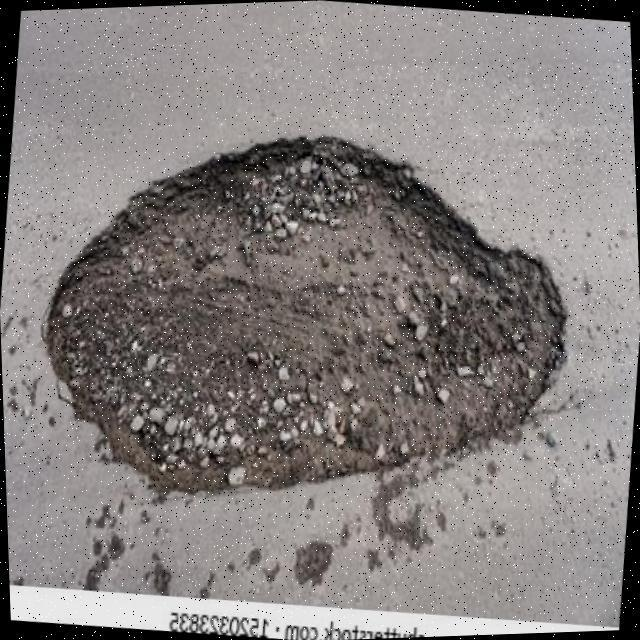Pothole: (41, 135, 568, 496)
